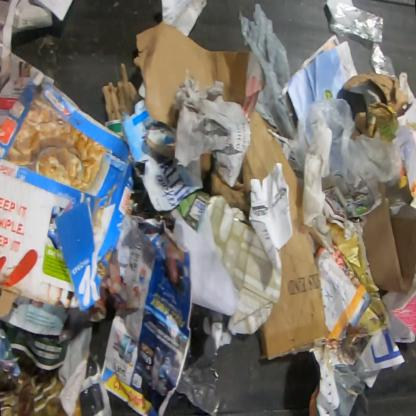cardboard: (0, 74, 135, 312), (241, 109, 327, 359), (171, 164, 292, 336), (132, 22, 252, 129), (121, 99, 205, 212), (359, 195, 415, 295), (342, 72, 409, 138), (102, 64, 144, 122)
soft_plastic: (291, 97, 415, 235), (238, 3, 295, 138), (329, 0, 384, 43), (370, 42, 395, 78)
